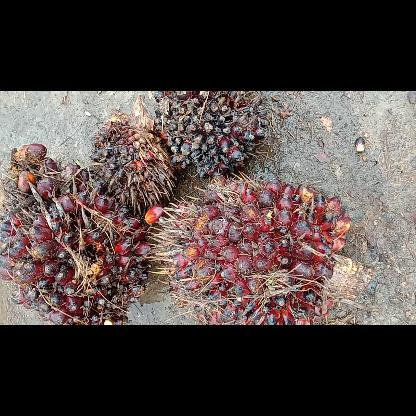Kurang masak: (0, 144, 152, 324)
TBS abnormal: (88, 95, 176, 212), (155, 90, 271, 176)
TBS masak: (145, 172, 375, 324)
